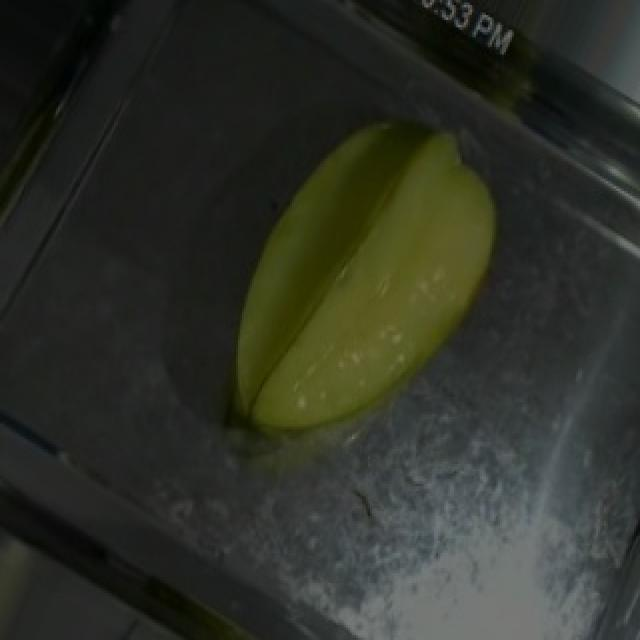fruit: (218, 64, 562, 464)
